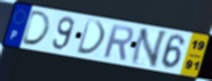6: (160, 33, 187, 71)
9: (51, 16, 75, 51)
D: (19, 9, 52, 47), (75, 18, 107, 57)
N: (127, 28, 169, 69)
R: (102, 23, 135, 62)
